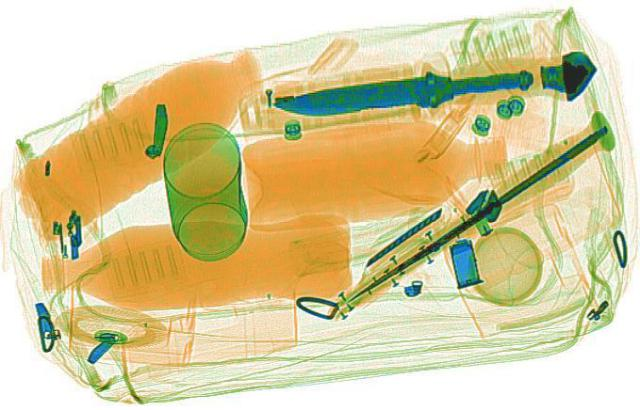Knife: (330, 116, 630, 310), (254, 59, 540, 124)
